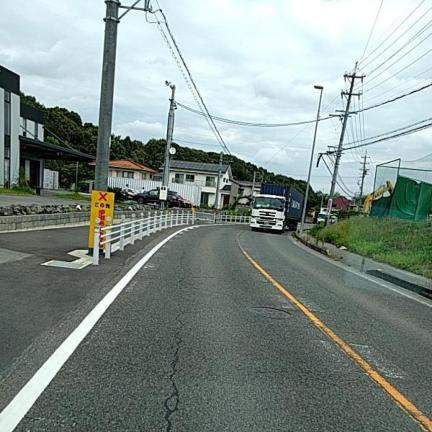Road: (17, 226, 431, 431)
